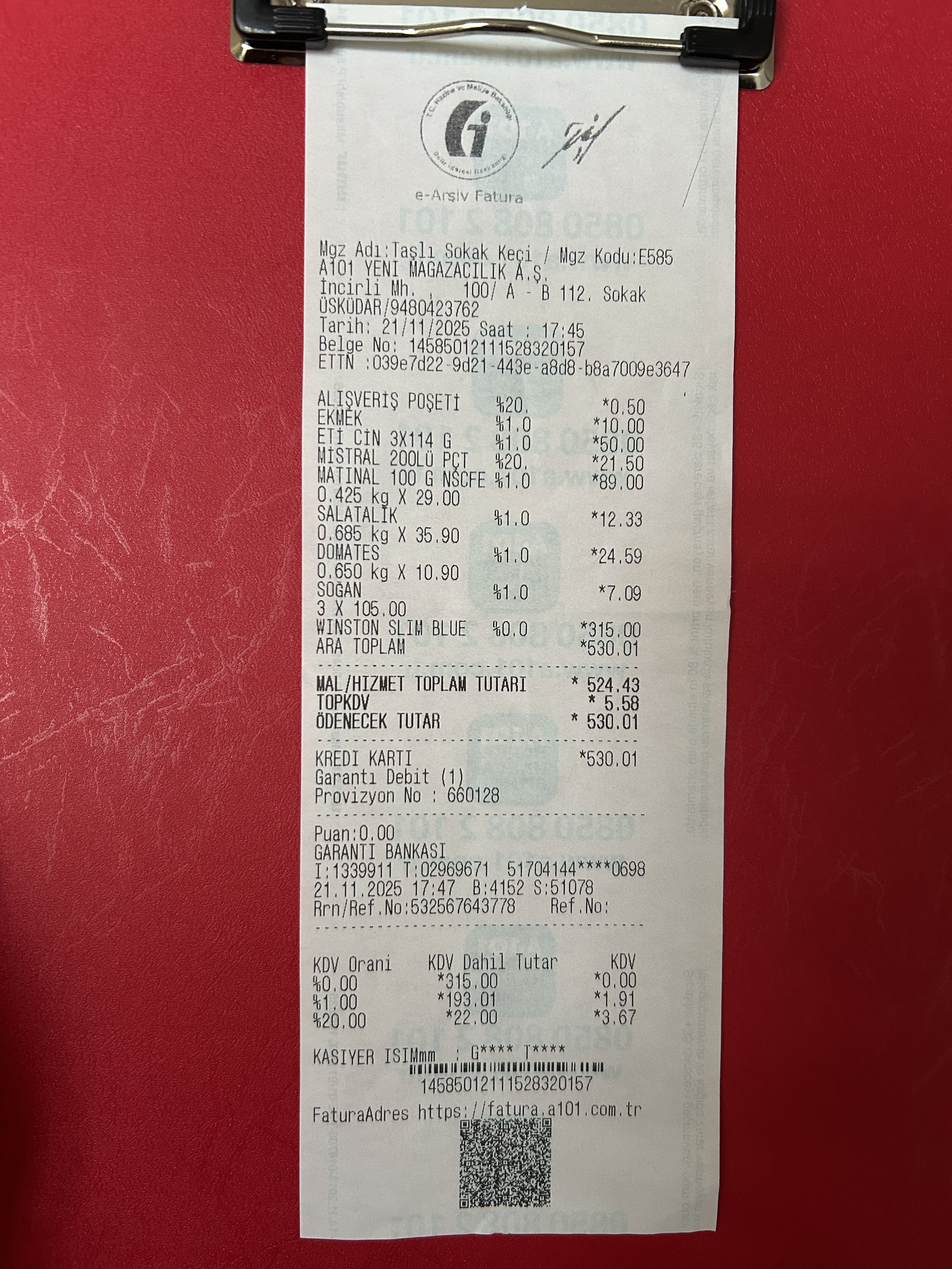date: (379, 313, 472, 339)
price: (580, 711, 644, 737)
workplace: (314, 235, 679, 304)
